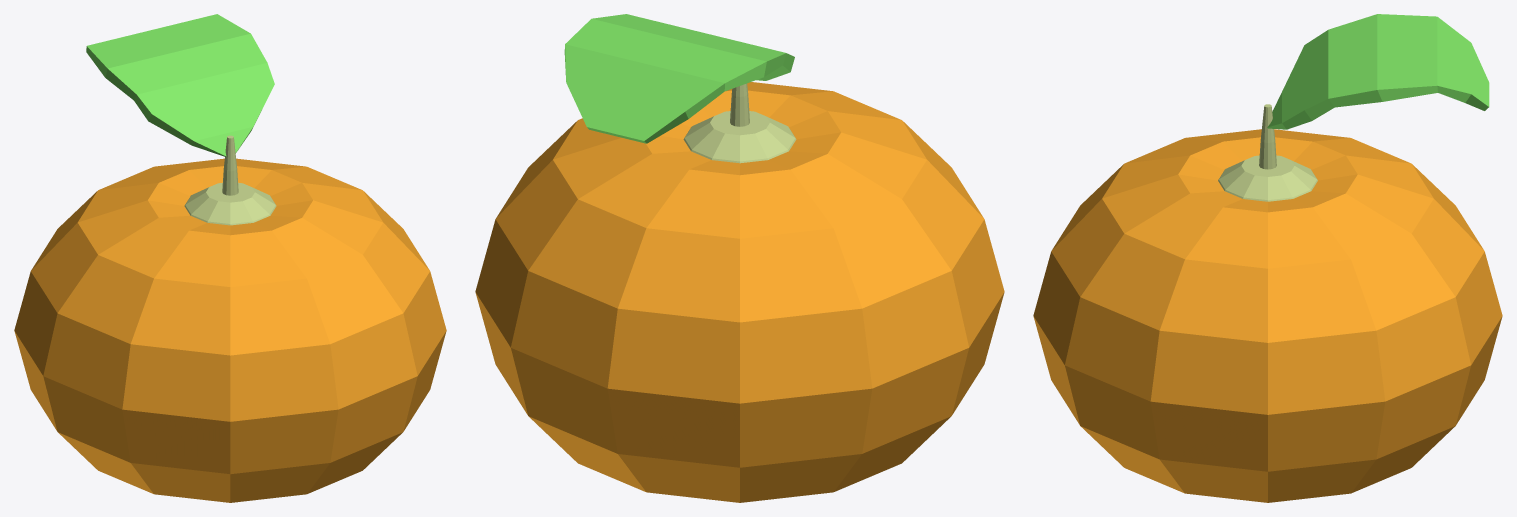
The model's file is tower_orange.glb.
3 views of the same model, side by side, from view 1: azimuth 30°, elevation 25°; view 2: azimuth 150°, elevation 25°; view 3: azimuth 270°, elevation 25° (orthographic). The views are drawn at different scales.
Visible parts, largest first — view 1: Sphere; view 2: Sphere; view 3: Sphere.
Boxes of the visible parts, left/top/right/bottom form: Sphere: left=14, top=14, right=446, bottom=502; Sphere: left=475, top=14, right=1004, bottom=502; Sphere: left=1033, top=14, right=1502, bottom=502.
Size of the model in its own units: 2 by 1.91 by 2.
